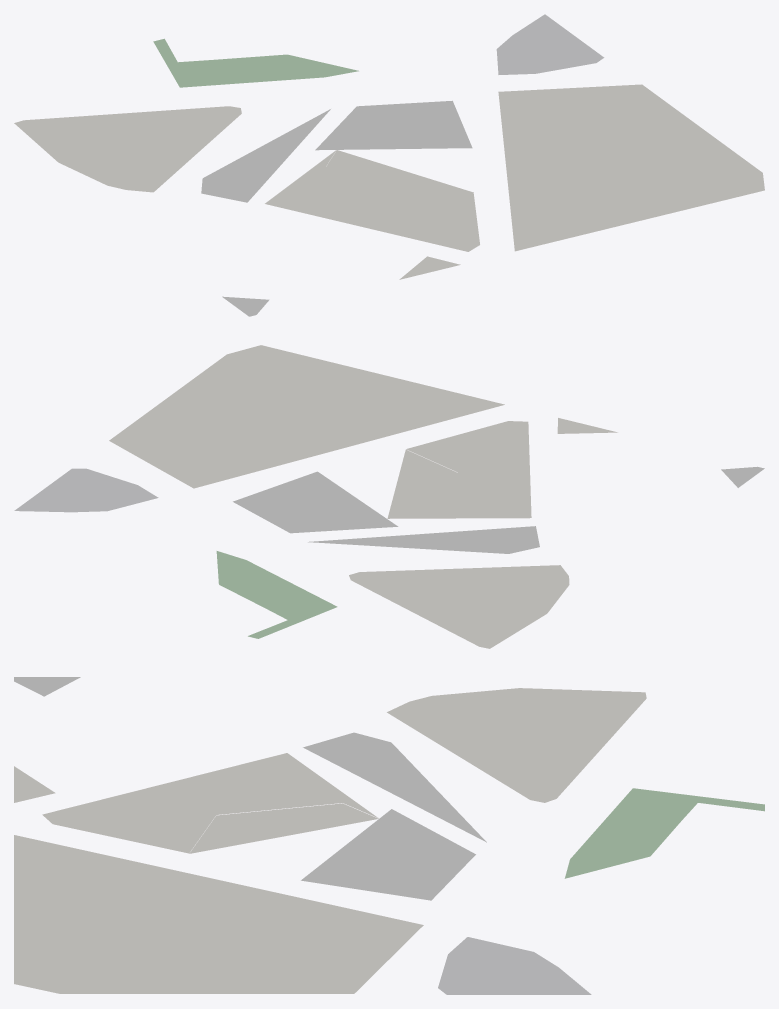
The model's file is 101_89_mid.glb.
3 views of the same model, one above another, from view 1: azimuth 30°, elevation 25°; view 2: azimuth 150°, elevation 25°; view 3: azimuth 270°, elevation 25° (orthographic). The views are drawn at different scales.
Bounding box in the file's own units: 500 × 1.49 × 500.
